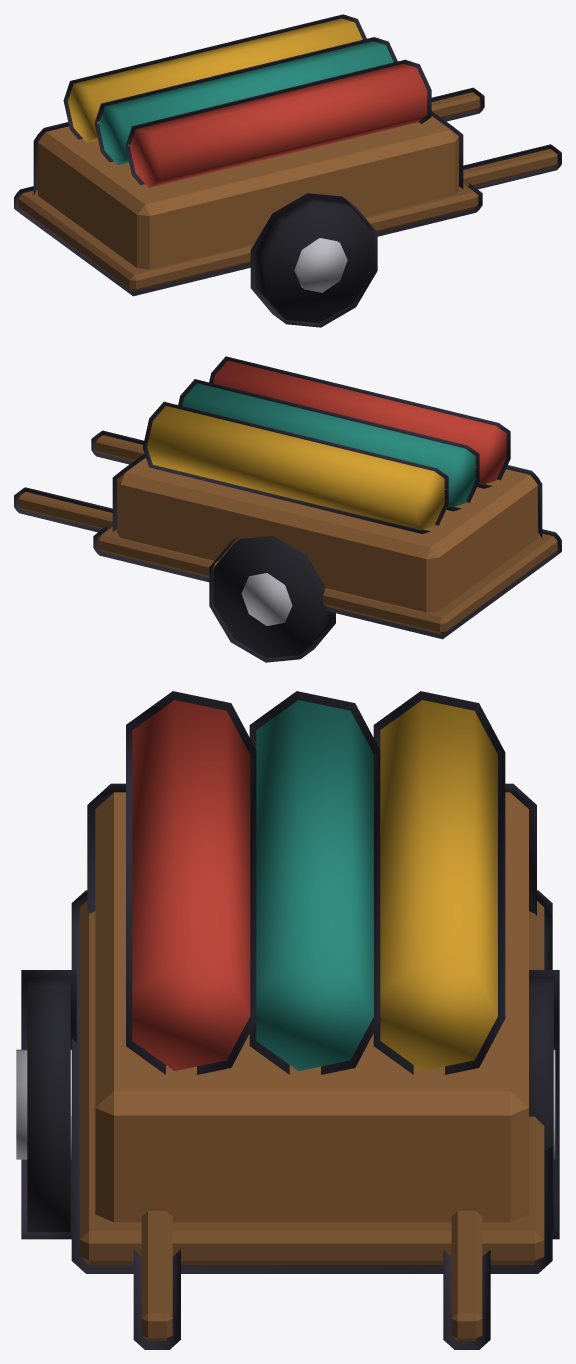
File: cart.glb
The picture shows the model from 3 angles, top to bottom: view 1: azimuth 30°, elevation 25°; view 2: azimuth 150°, elevation 25°; view 3: azimuth 270°, elevation 25°; orthographic projection. The views are drawn at different scales.
Parts seen in each view (by area): view 1: cart; view 2: cart; view 3: cart.
Part boxes in pixels (x1,y1,x2,y2): cart: (14,14,561,327); cart: (14,356,561,662); cart: (16,691,559,1349).
Bounding box in the file's own units: 3.35 × 1.44 × 1.75.
